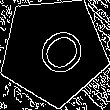O_SW: (21, 18, 86, 83)
